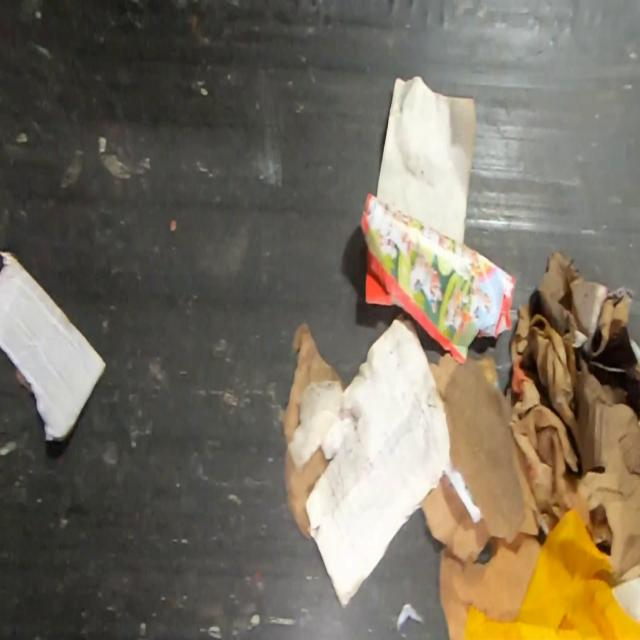cardboard: (302, 308, 484, 612), (0, 249, 107, 445), (375, 73, 478, 246), (437, 529, 543, 640), (536, 249, 636, 362), (419, 477, 490, 565), (363, 267, 402, 307)
soft_plastic: (287, 378, 344, 469)
